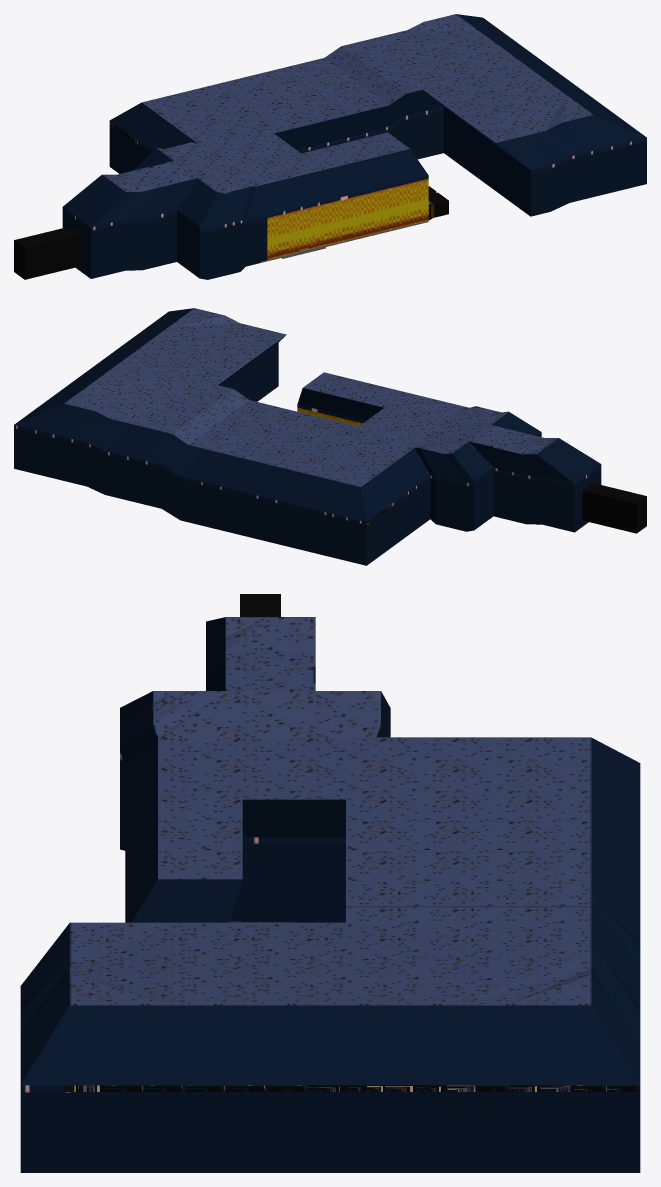
The model's file is arcade.fbx.
3 renders of one model, top to bottom at view 1: azimuth 30°, elevation 25°; view 2: azimuth 150°, elevation 25°; view 3: azimuth 270°, elevation 25°, orthographic. The views are drawn at different scales.
Parts seen in each view (by area): view 1: Cube; view 2: Cube; view 3: Cube.
Part boxes in pixels (box(x1,y1,x2,y2)): Cube: box(14, 14, 646, 279); Cube: box(14, 308, 646, 565); Cube: box(20, 594, 640, 1172).
Size of the model in its own units: 20251 by 2870 by 10192.
1 material, 1 textured.
